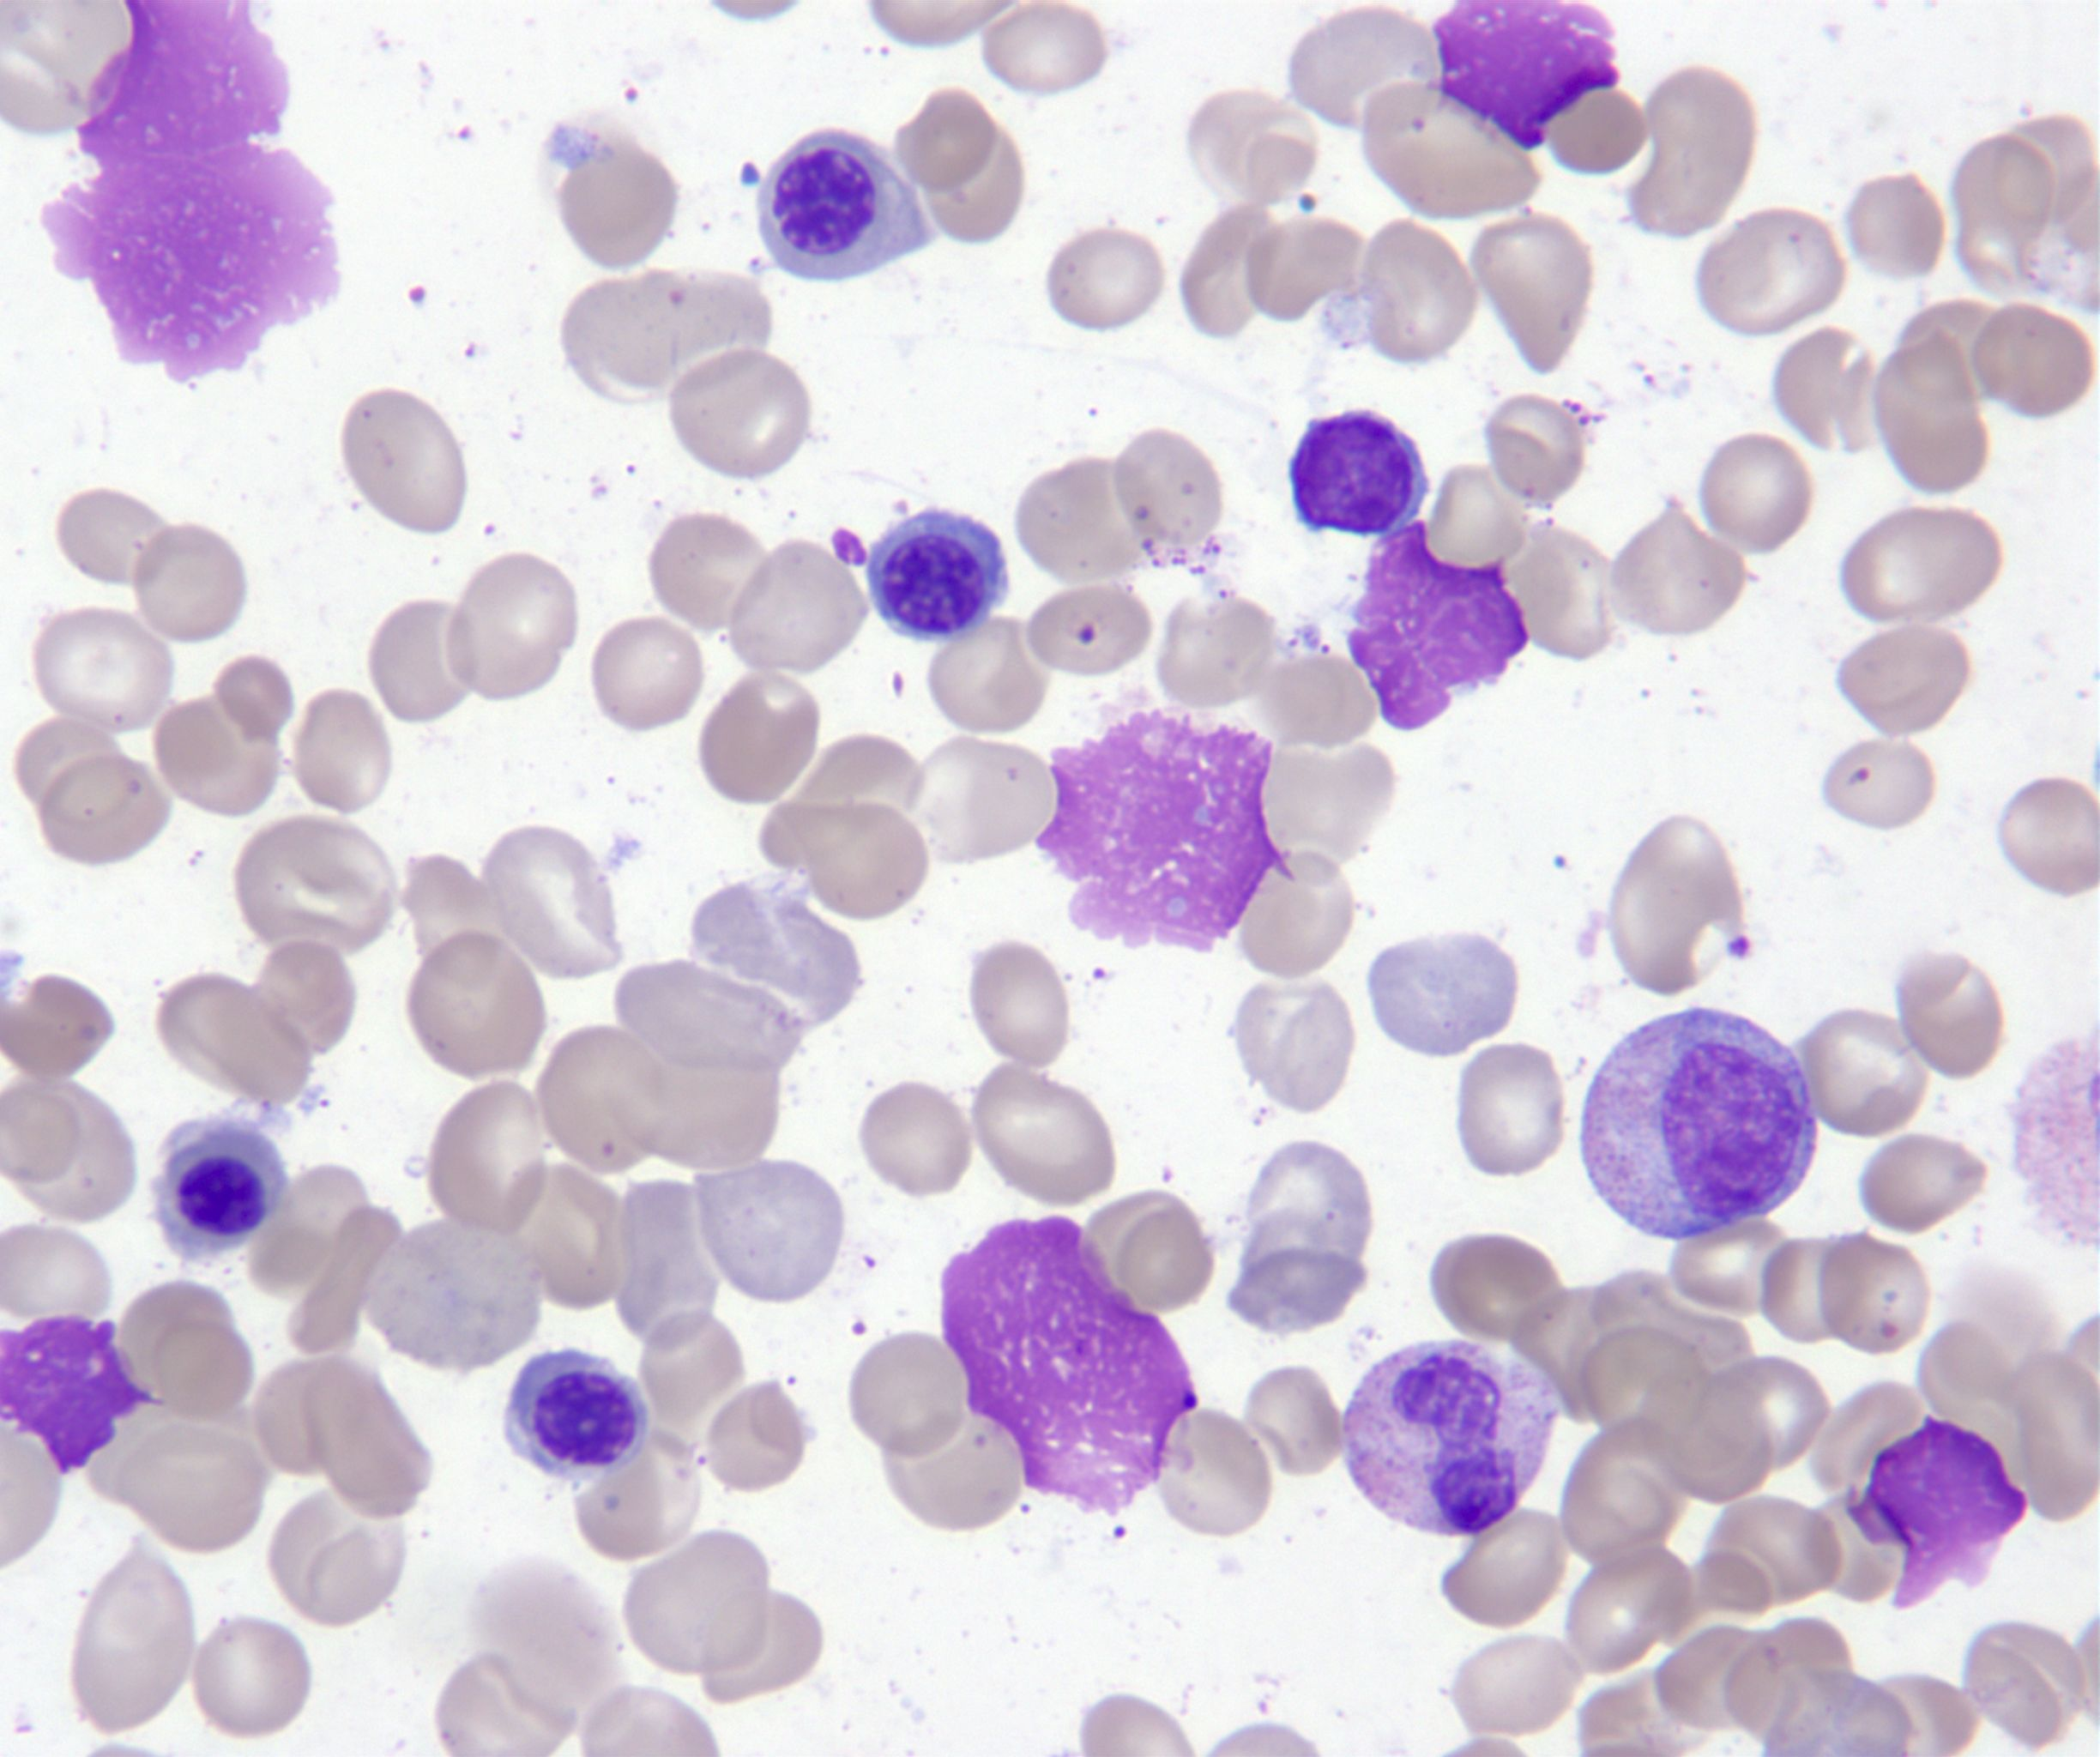24: (760, 131, 931, 279), (150, 1118, 288, 1261), (867, 508, 1010, 639), (502, 1350, 647, 1478)
3: (1584, 1012, 1816, 1242)
32: (1287, 412, 1430, 530)
6: (1341, 1345, 1552, 1535)
x: (42, 3, 342, 382), (944, 1218, 1197, 1514), (1038, 710, 1296, 954), (1352, 523, 1528, 729), (1849, 1415, 2027, 1612), (1430, 0, 1620, 154), (0, 1312, 164, 1473)
